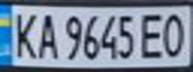4: (100, 11, 121, 60)
5: (115, 11, 139, 61)
6: (81, 11, 103, 61)
9: (60, 11, 84, 61)
A: (33, 9, 60, 61)
E: (136, 10, 169, 60)
K: (6, 8, 39, 60)
O: (157, 9, 190, 58)
